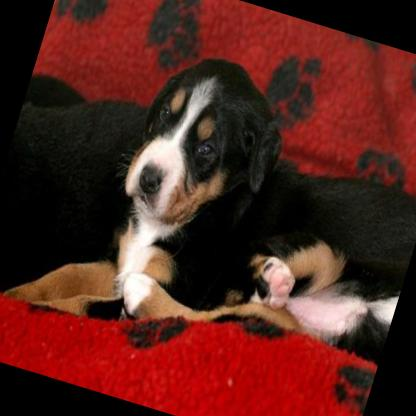Appenzeller: (82, 35, 416, 396)
